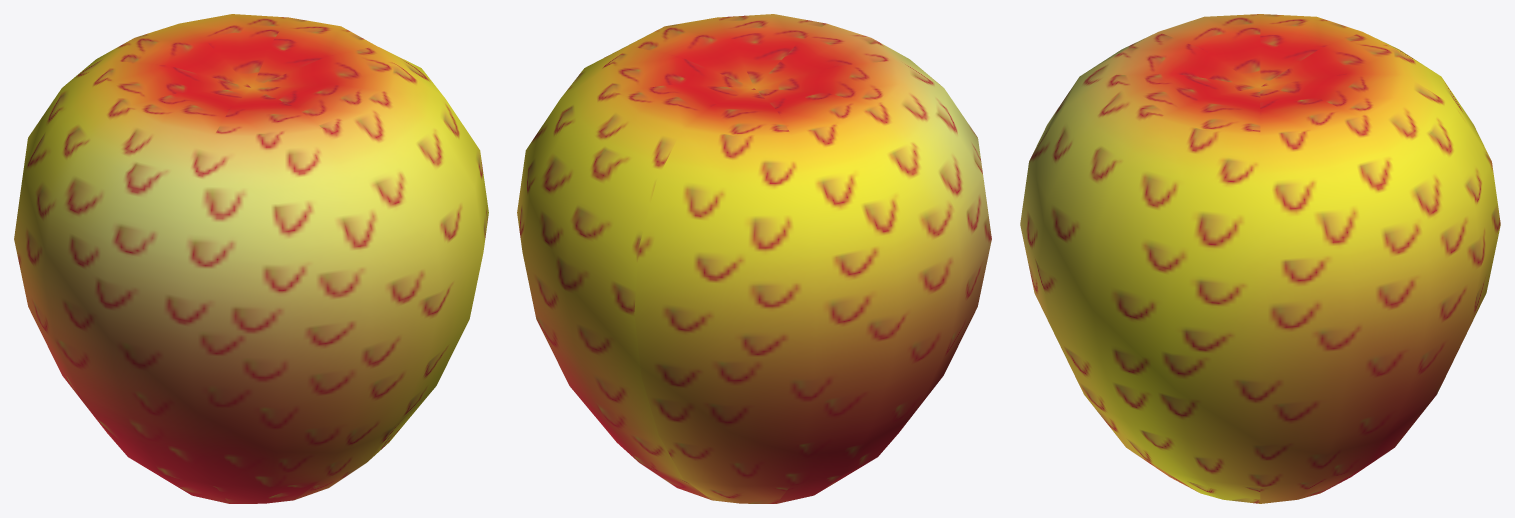
Rendered from lychee.FBX.
3 renders of one model, left to right at view 1: azimuth 30°, elevation 25°; view 2: azimuth 150°, elevation 25°; view 3: azimuth 270°, elevation 25°, orthographic.
Visible parts, largest first — view 1: Lychee; view 2: Lychee; view 3: Lychee.
Boxes of the visible parts, x1,y1,x2,y2 form: Lychee: (14,14,488,503); Lychee: (517,14,991,503); Lychee: (1020,14,1500,503).
Bounding box in the file's own units: 4.64 × 4.54 × 4.64.
